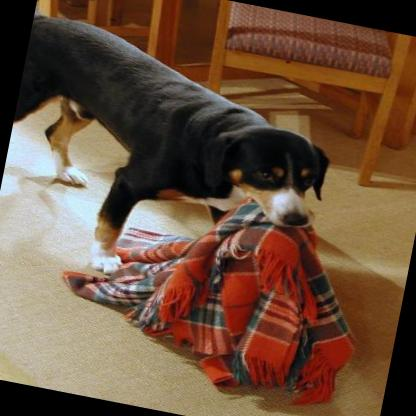EntleBucher: (0, 9, 346, 307)
